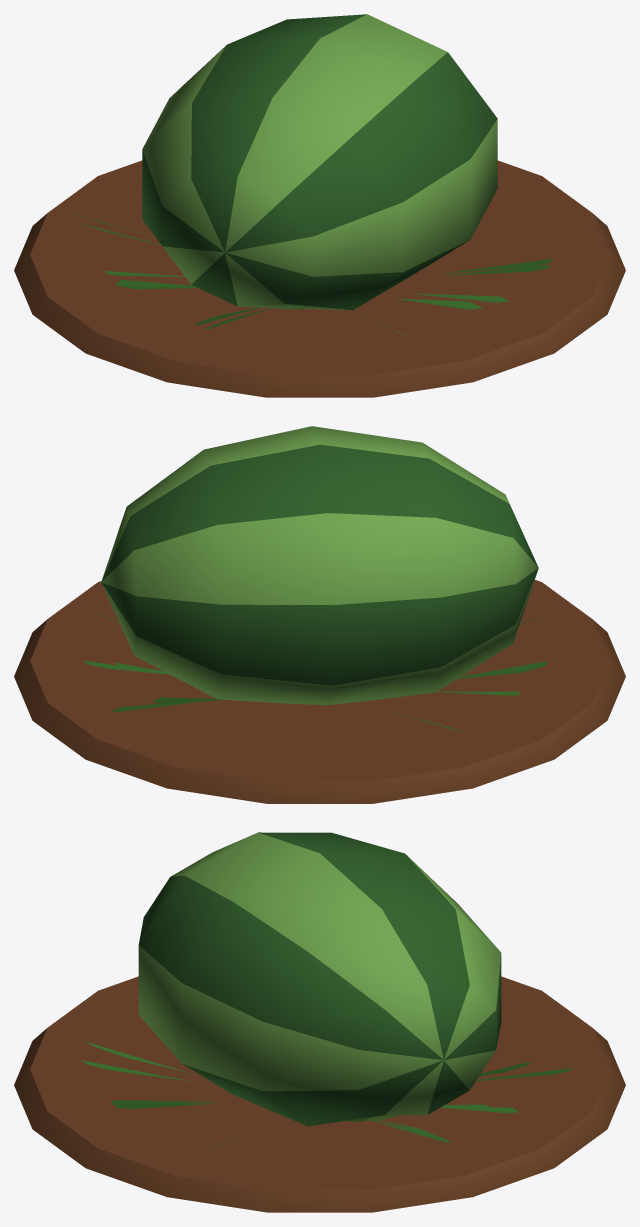
The model's file is watermelon.glb.
3 renders of one model, top to bottom at view 1: azimuth 30°, elevation 25°; view 2: azimuth 150°, elevation 25°; view 3: azimuth 270°, elevation 25°, orthographic.
Visible parts, largest first — view 1: crop-watermelon-giant, crop-watermelon-giant-2; view 2: crop-watermelon-giant, crop-watermelon-giant-2; view 3: crop-watermelon-giant, crop-watermelon-giant-2.
Boxes of the visible parts, x1,y1,x2,y2 form: crop-watermelon-giant: (14,14,625,397); crop-watermelon-giant-2: (14,160,625,396); crop-watermelon-giant: (14,426,625,803); crop-watermelon-giant-2: (14,580,625,802); crop-watermelon-giant: (14,832,625,1212); crop-watermelon-giant-2: (14,976,625,1211).
Bounding box in the file's own units: 5.61 × 2.46 × 5.7.
